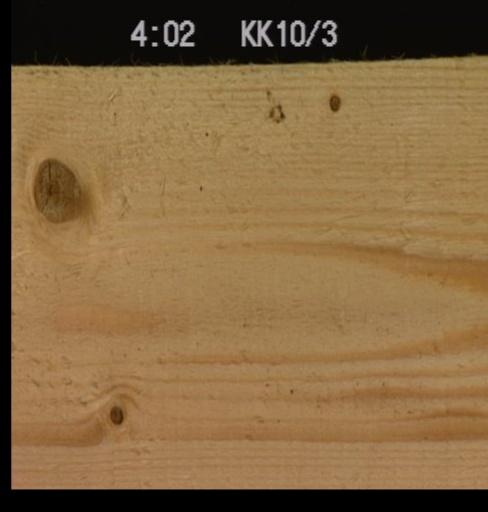dry_knot: (326, 90, 341, 112)
sound_knot: (29, 154, 84, 224), (105, 400, 124, 425)
